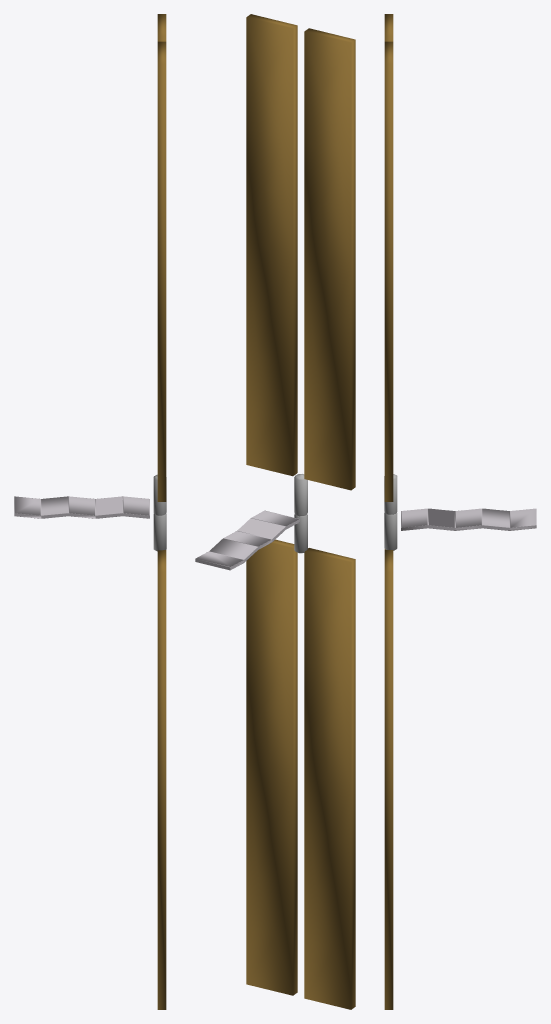
The model's file is iss-arrays-p6.glb.
The picture shows the model from 3 angles, left to right: view 1: azimuth 90°, elevation 25°; view 2: azimuth 150°, elevation 25°; view 3: azimuth 270°, elevation 25°; orthographic projection. The views are drawn at different scales.
Visible parts, largest first — view 1: arrays-p6; view 2: arrays-p6; view 3: arrays-p6.
Boxes of the visible parts, x1,y1,x2,y2 form: arrays-p6: (14, 14, 166, 1009); arrays-p6: (195, 14, 355, 1009); arrays-p6: (384, 14, 536, 1009).
Size of the model in its own units: 8.13 by 71.66 by 10.48.
1 material, 1 textured.
